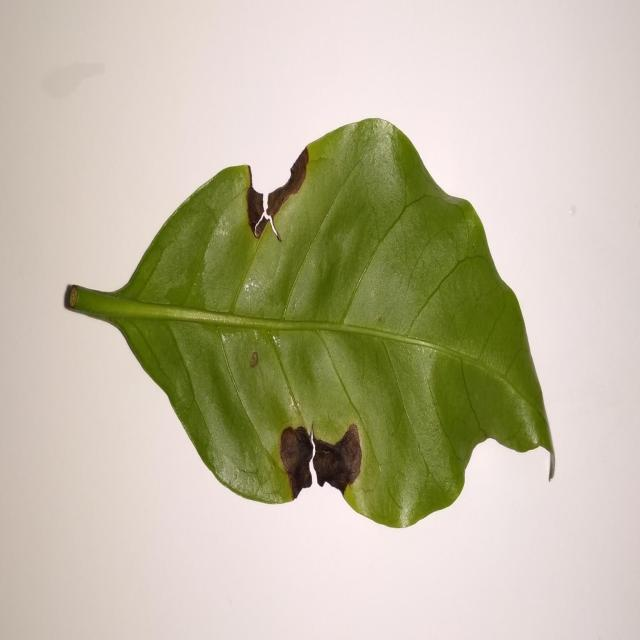Enfermedad-Antracnosis: (62, 118, 554, 532)
